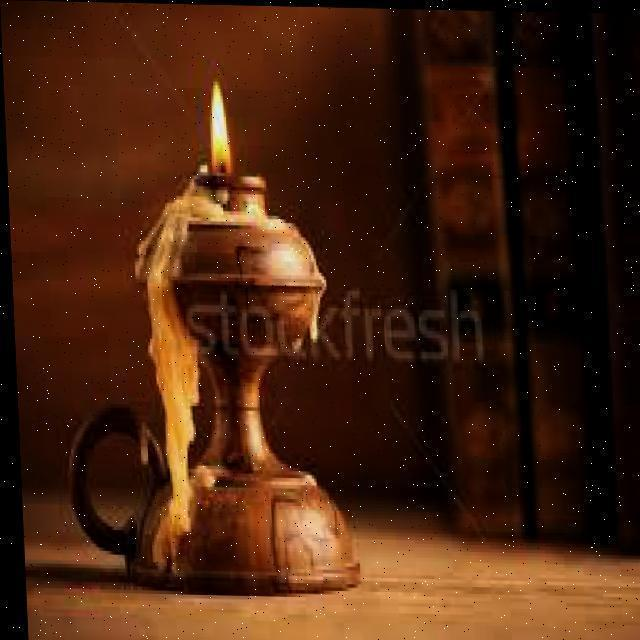Fire: (188, 70, 246, 168)
